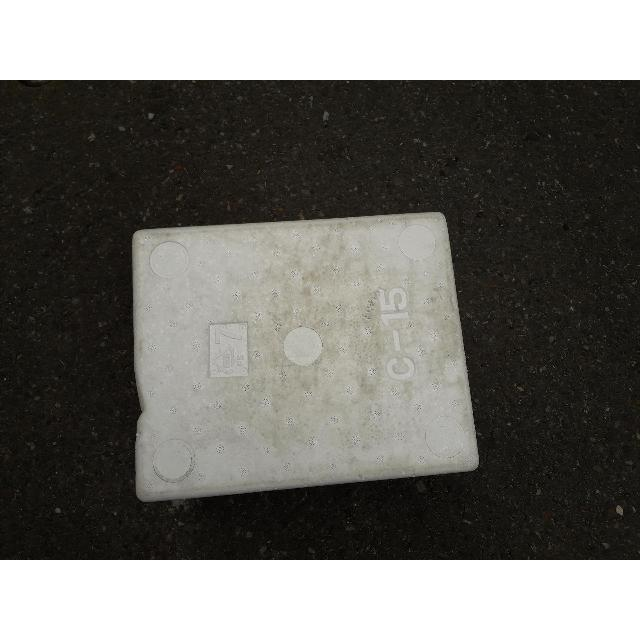Recipiente plastico: (132, 212, 479, 501)
